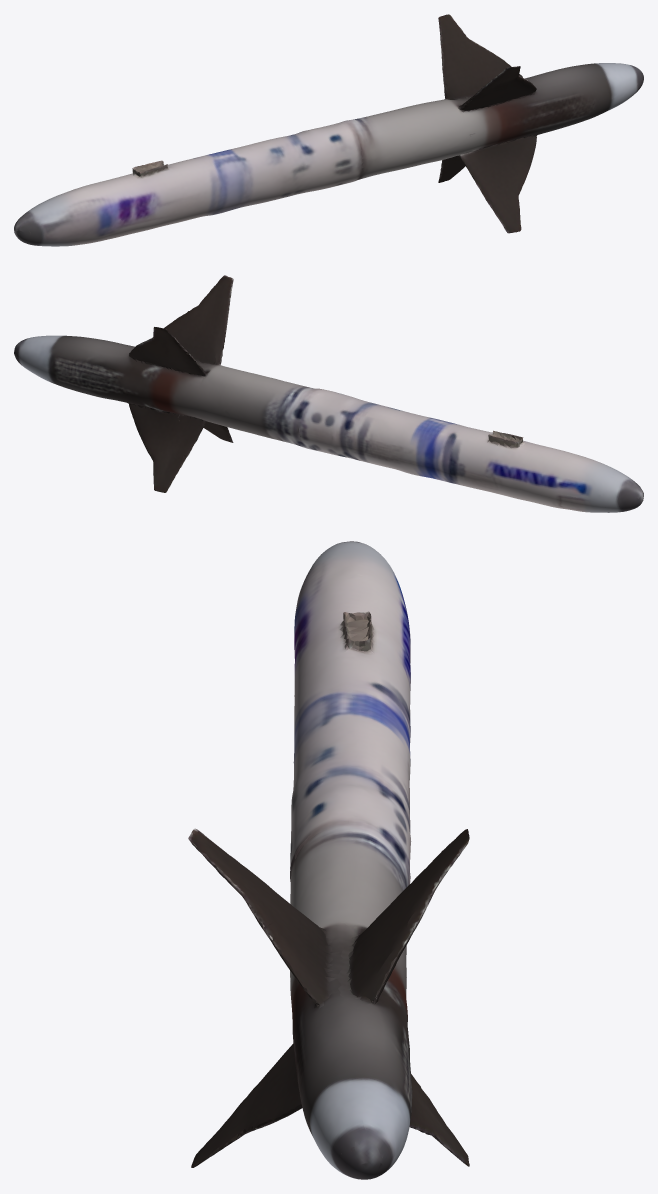
The model's file is AIM_9X_Sidewinder_Missile_AI_Rodin.glb.
3 views of the same model, one above another, from view 1: azimuth 30°, elevation 25°; view 2: azimuth 150°, elevation 25°; view 3: azimuth 270°, elevation 25° (orthographic). The views are drawn at different scales.
Visible parts, largest first — view 1: AIM_9X_Sidewinder_Missile; view 2: AIM_9X_Sidewinder_Missile; view 3: AIM_9X_Sidewinder_Missile.
Part boxes in pixels (x1=…): AIM_9X_Sidewinder_Missile: x1=14, y1=14, x2=643, y2=246; AIM_9X_Sidewinder_Missile: x1=14, y1=275, x2=643, y2=512; AIM_9X_Sidewinder_Missile: x1=188, y1=541, x2=469, y2=1179.
Size of the model in its own units: 2.63 by 0.6622 by 0.5131.
Materials: 1 (1 with a texture image).
